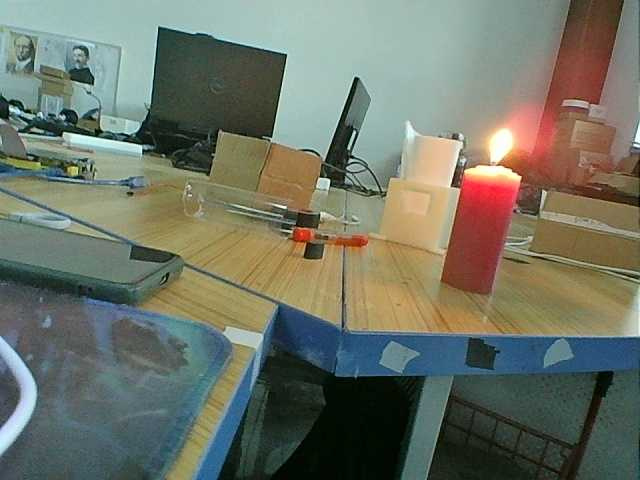candle: (447, 152, 518, 294)
fire: (462, 126, 529, 191)
